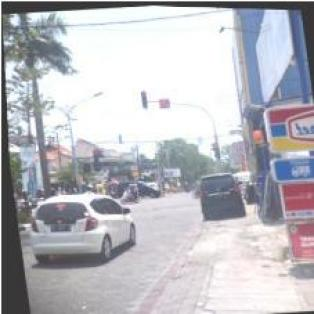Semaforo Rojo: (138, 90, 147, 108), (90, 148, 98, 165), (211, 140, 218, 158)
